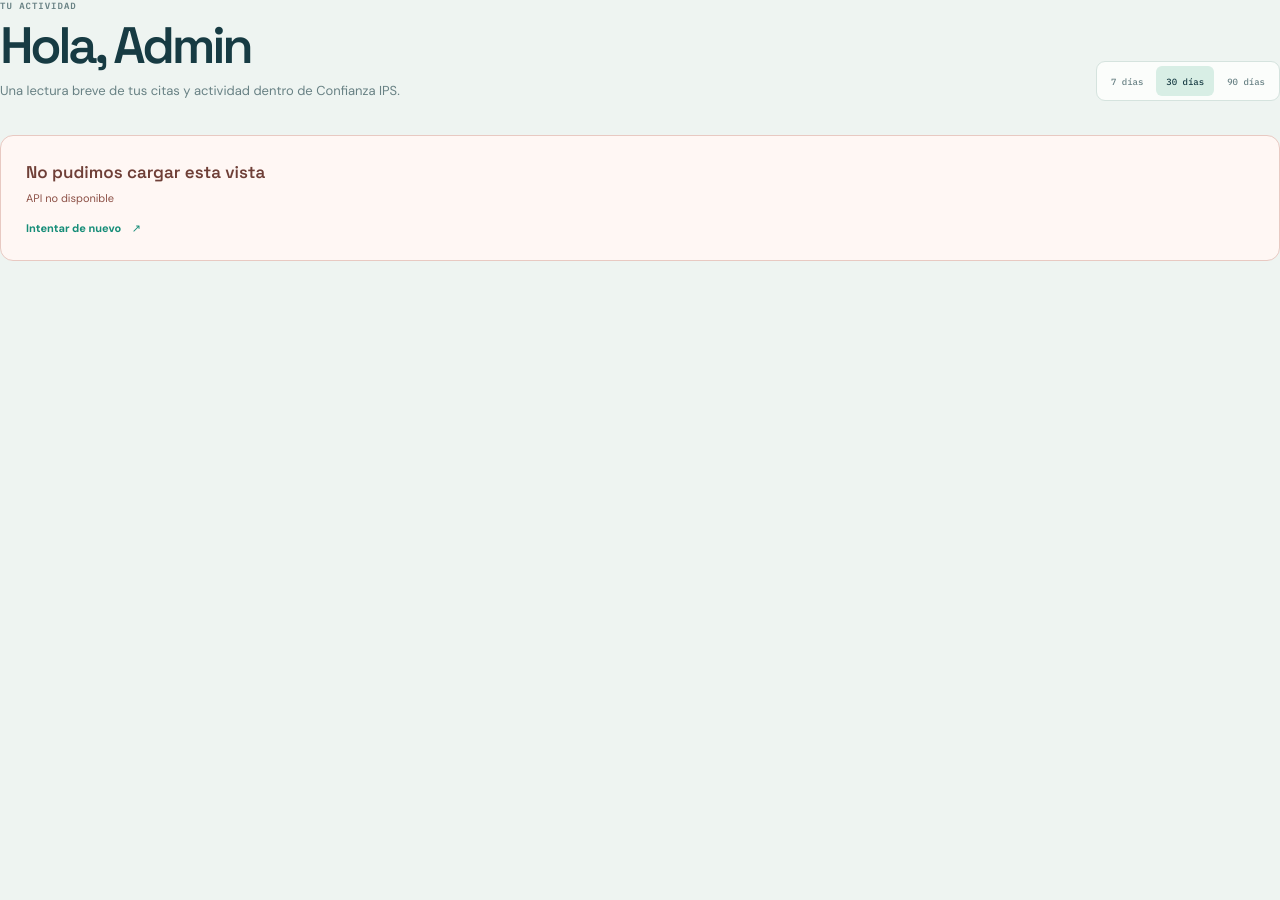
OverviewPage › offers a retry action after an analytics failure
Expected: the text "API no disponible" is shown, [26,191,114,205]
Click the button "Intentar de nuevo ↗" at (84, 228), box [26,221,141,235]
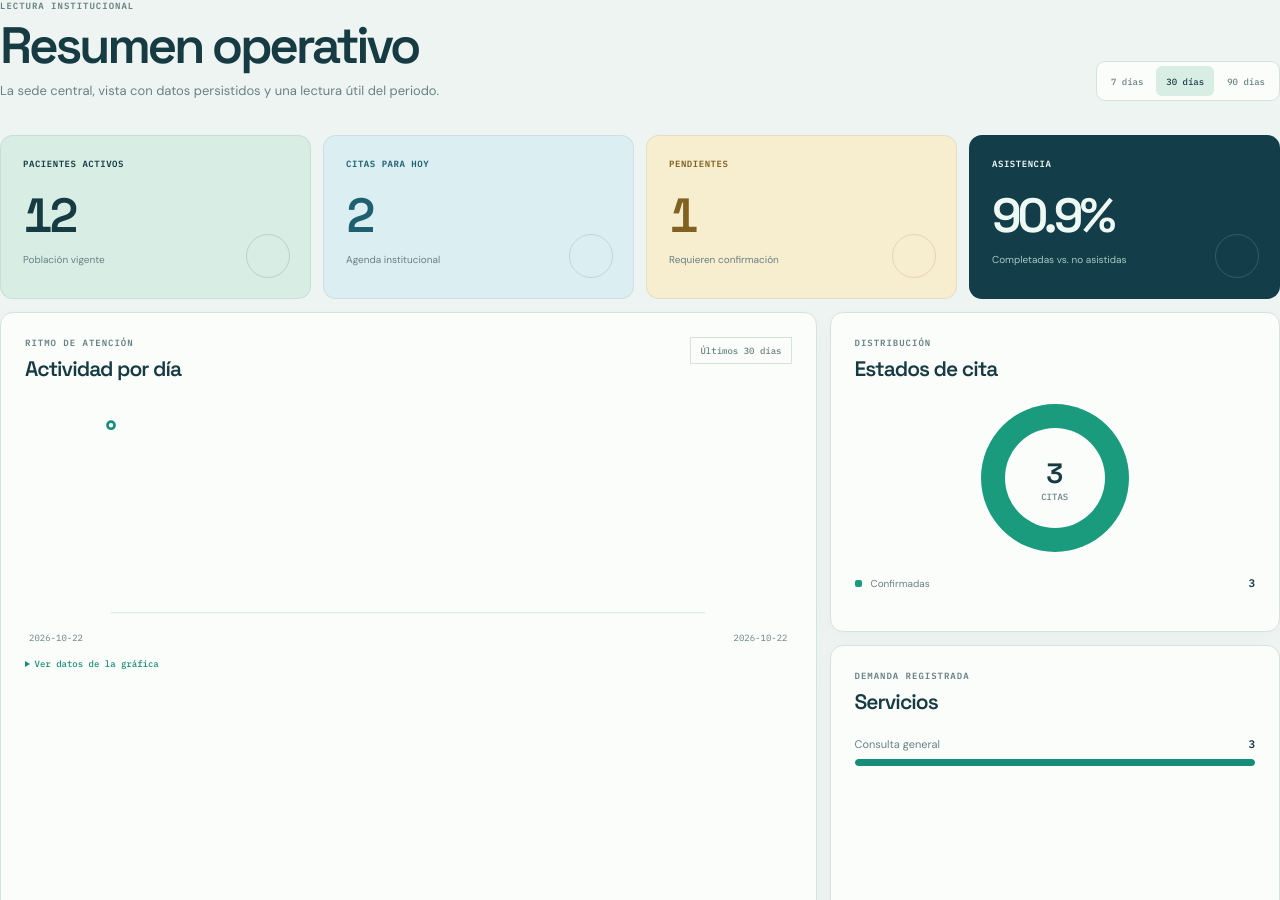
Now the text "Pacientes activos" is shown, box [23,158,124,169]
